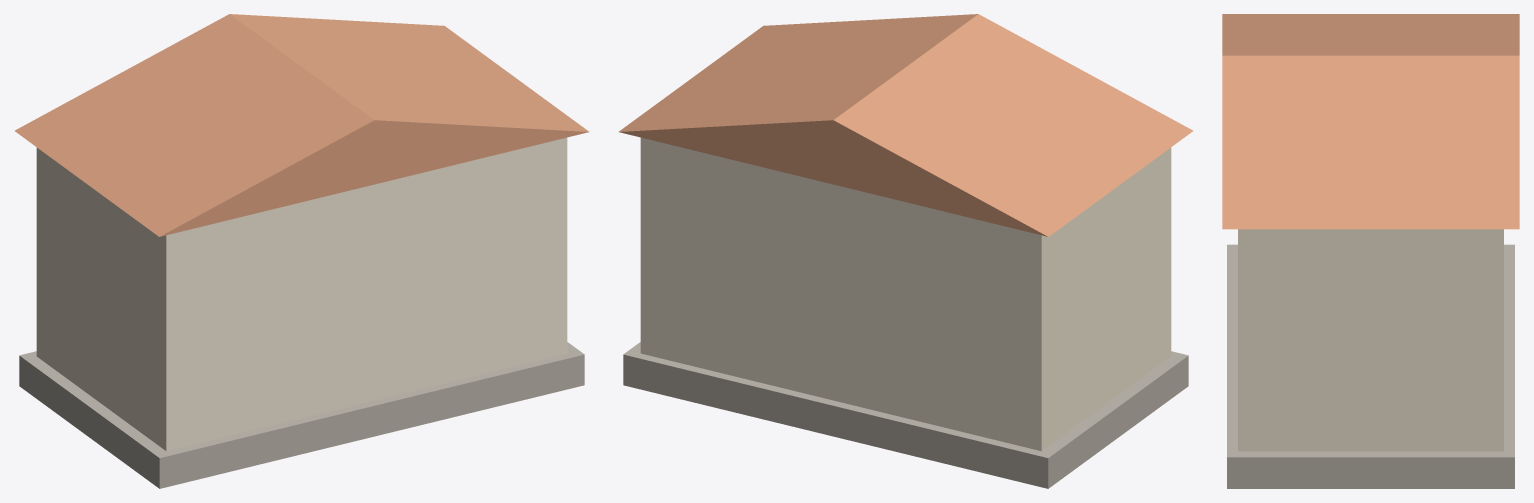
The model's file is fish_market_roof_far-jG1CFail.glb.
3 views of the same model, side by side, from view 1: azimuth 30°, elevation 25°; view 2: azimuth 150°, elevation 25°; view 3: azimuth 270°, elevation 25° (orthographic). The views are drawn at different scales.
Visible parts, largest first — view 1: fish_market_roof_far; view 2: fish_market_roof_far; view 3: fish_market_roof_far.
Part boxes in pixels (x1=…): fish_market_roof_far: x1=14, y1=14, x2=588, y2=488; fish_market_roof_far: x1=619, y1=14, x2=1193, y2=488; fish_market_roof_far: x1=1222, y1=14, x2=1519, y2=488.
Size of the model in its own units: 8.05 by 5.69 by 4.7.
